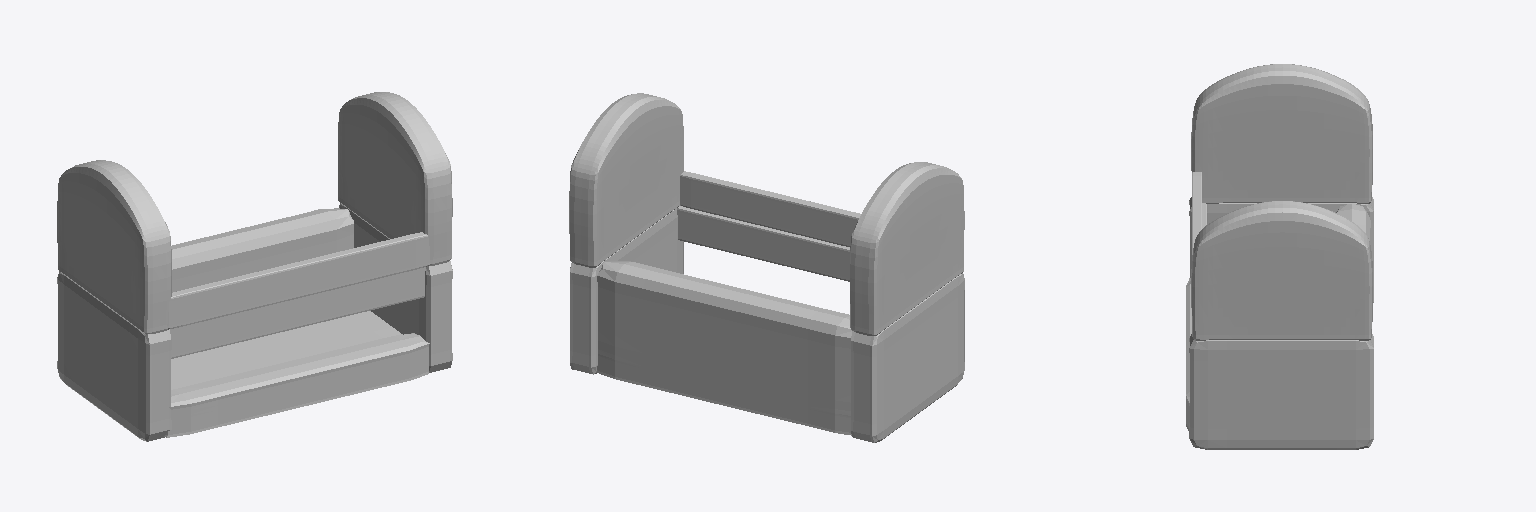
File: sides.obj
The picture shows the model from 3 angles: view 1: azimuth 30°, elevation 25°; view 2: azimuth 150°, elevation 25°; view 3: azimuth 270°, elevation 25°; orthographic projection.
Parts seen in each view (by area): view 1: group7 pCube16, group7 pCube6, pCube14 group7, group7 pCube10, group7 pCube12, group7 pCube13, group7 pCube9; view 2: group7 pCube16, group7 pCube6, pCube14 group7, group7 pCube10, group7 pCube12, group7 pCube13, group7 pCube9; view 3: pCube14 group7, group7 pCube6, group7 pCube9, group7 pCube16, group7 pCube10, group7 pCube12.
Part boxes in pixels (left/top/right/bottom): group7 pCube16: left=164, top=208, right=429, bottom=437; group7 pCube6: left=57, top=160, right=171, bottom=334; pCube14 group7: left=338, top=92, right=452, bottom=265; group7 pCube10: left=57, top=271, right=171, bottom=441; group7 pCube12: left=167, top=232, right=430, bottom=329; group7 pCube13: left=170, top=267, right=425, bottom=358; group7 pCube9: left=339, top=203, right=452, bottom=372; group7 pCube16: left=596, top=261, right=851, bottom=435; group7 pCube6: left=850, top=162, right=964, bottom=335; pCube14 group7: left=569, top=93, right=683, bottom=267; group7 pCube10: left=851, top=273, right=964, bottom=442; group7 pCube12: left=680, top=171, right=860, bottom=247; group7 pCube13: left=677, top=206, right=849, bottom=281; group7 pCube9: left=570, top=208, right=683, bottom=374; pCube14 group7: left=1191, top=201, right=1372, bottom=340; group7 pCube6: left=1191, top=64, right=1372, bottom=203; group7 pCube9: left=1189, top=334, right=1373, bottom=449; group7 pCube16: left=1186, top=204, right=1370, bottom=433; group7 pCube10: left=1189, top=197, right=1373, bottom=302; group7 pCube12: left=1192, top=172, right=1201, bottom=254.
Size of the model in its own units: 3.34 by 2.48 by 1.76.